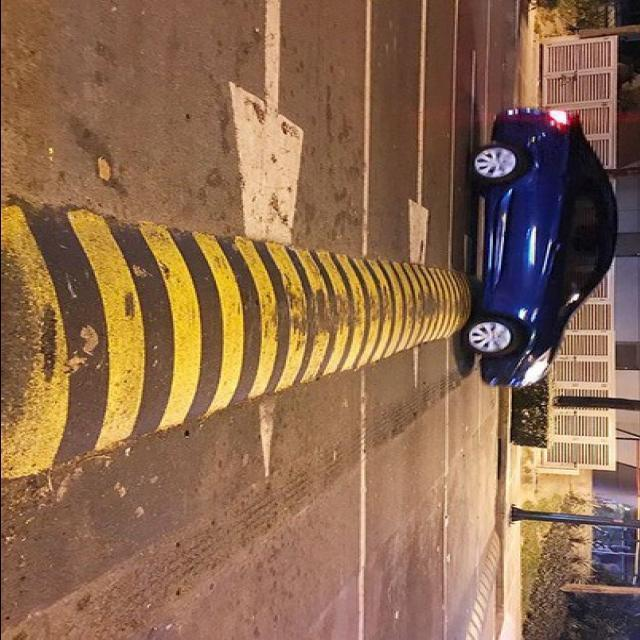speedbreaker: (0, 235, 474, 469)
